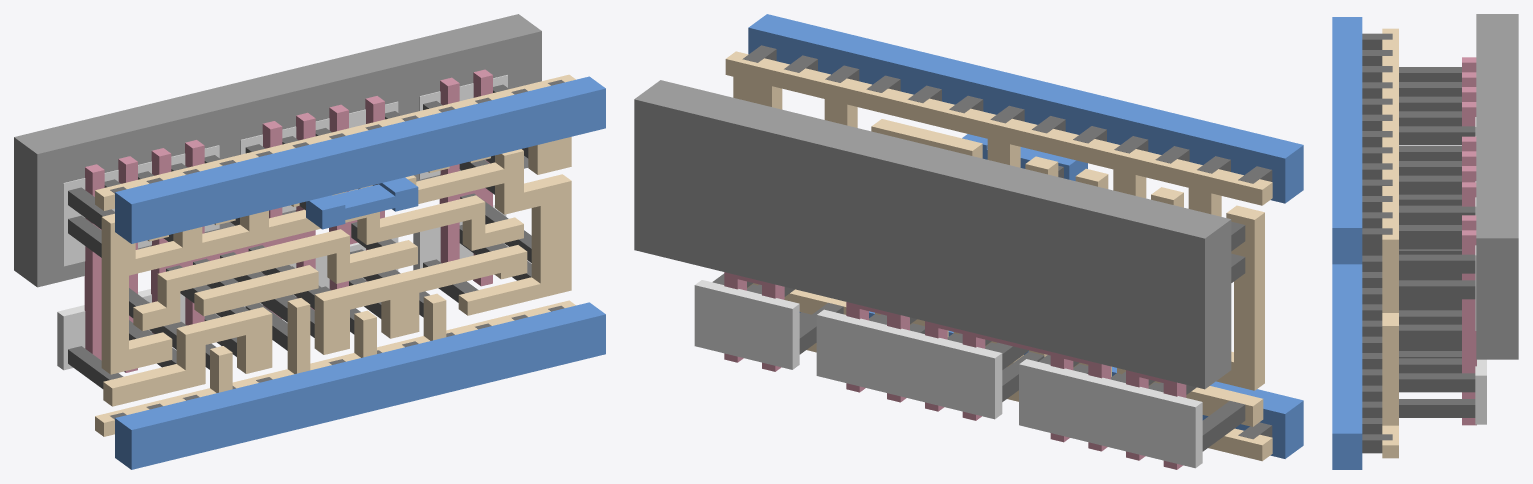
Rendered from sky130_fd_sc_hd__xnor2_2.gds.gltf.
3 renders of one model, left to right at view 1: azimuth 30°, elevation 25°; view 2: azimuth 150°, elevation 25°; view 3: azimuth 270°, elevation 25°, orthographic. The views are drawn at different scales.
Visible parts, largest first — view 1: sky130_fd_sc_hd__xnor2_2_li1, sky130_fd_sc_hd__xnor2_2_met1, sky130_fd_sc_hd__xnor2_2_nwell, sky130_fd_sc_hd__xnor2_2_licon, sky130_fd_sc_hd__xnor2_2_poly, sky130_fd_sc_hd__xnor2_2_diff, sky130_fd_sc_hd__xnor2_2_mcon; view 2: sky130_fd_sc_hd__xnor2_2_nwell, sky130_fd_sc_hd__xnor2_2_diff, sky130_fd_sc_hd__xnor2_2_li1, sky130_fd_sc_hd__xnor2_2_met1, sky130_fd_sc_hd__xnor2_2_mcon, sky130_fd_sc_hd__xnor2_2_licon, sky130_fd_sc_hd__xnor2_2_poly; view 3: sky130_fd_sc_hd__xnor2_2_licon, sky130_fd_sc_hd__xnor2_2_nwell, sky130_fd_sc_hd__xnor2_2_met1, sky130_fd_sc_hd__xnor2_2_mcon, sky130_fd_sc_hd__xnor2_2_li1, sky130_fd_sc_hd__xnor2_2_poly, sky130_fd_sc_hd__xnor2_2_diff.
Boxes of the visible parts, x1,y1,x2,y2 form: sky130_fd_sc_hd__xnor2_2_li1: (95, 74, 575, 436); sky130_fd_sc_hd__xnor2_2_met1: (115, 76, 605, 469); sky130_fd_sc_hd__xnor2_2_nwell: (14, 14, 541, 287); sky130_fd_sc_hd__xnor2_2_licon: (68, 84, 531, 388); sky130_fd_sc_hd__xnor2_2_poly: (84, 69, 492, 372); sky130_fd_sc_hd__xnor2_2_diff: (57, 75, 507, 370); sky130_fd_sc_hd__xnor2_2_mcon: (110, 80, 564, 419); sky130_fd_sc_hd__xnor2_2_nwell: (634, 80, 1231, 389); sky130_fd_sc_hd__xnor2_2_diff: (694, 280, 1202, 468); sky130_fd_sc_hd__xnor2_2_li1: (725, 51, 1272, 461); sky130_fd_sc_hd__xnor2_2_met1: (748, 14, 1303, 458); sky130_fd_sc_hd__xnor2_2_mcon: (742, 45, 1272, 439); sky130_fd_sc_hd__xnor2_2_licon: (712, 221, 1245, 451); sky130_fd_sc_hd__xnor2_2_poly: (724, 272, 1186, 469); sky130_fd_sc_hd__xnor2_2_licon: (1399, 67, 1475, 417); sky130_fd_sc_hd__xnor2_2_nwell: (1476, 14, 1518, 359); sky130_fd_sc_hd__xnor2_2_met1: (1332, 17, 1362, 469); sky130_fd_sc_hd__xnor2_2_mcon: (1362, 33, 1392, 453); sky130_fd_sc_hd__xnor2_2_li1: (1382, 28, 1398, 458); sky130_fd_sc_hd__xnor2_2_poly: (1462, 57, 1476, 425); sky130_fd_sc_hd__xnor2_2_diff: (1475, 117, 1486, 424).
Size of the model in its own units: 6.36 by 3.2 by 2.24.
